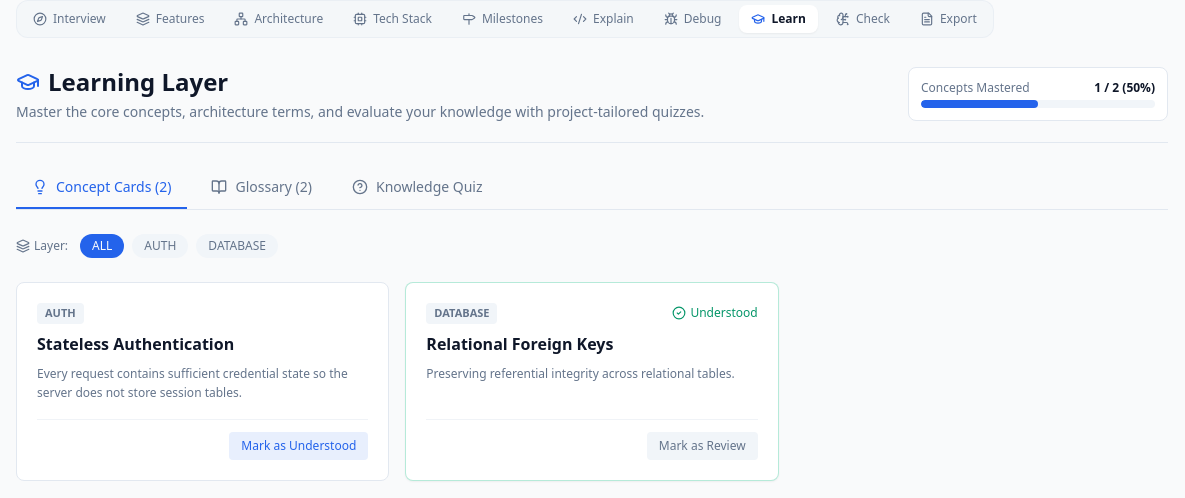
Test: LearnPage › switches to glossary and filters terms
Click the button "Glossary (2)" at coordinates (262, 188), box x1=196 y1=167 x2=328 y2=209
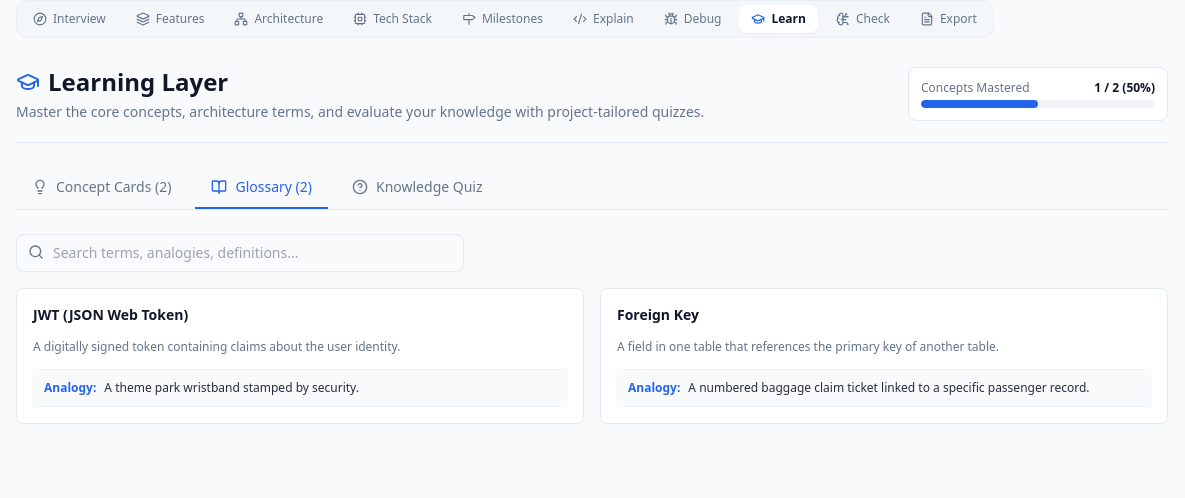
Expected: the heading "Foreign Key" is shown, x1=617 y1=305 x2=699 y2=325
Expected: the heading "JWT (JSON Web Token)" is shown, x1=33 y1=305 x2=188 y2=325
Expected: the text "A theme park wristband stamped by security." is shown, x1=104 y1=380 x2=359 y2=396
Type "wristband" into the field with placeholder "Search terms, analogies, definitions..." at coordinates (240, 253), box x1=16 y1=234 x2=464 y2=272
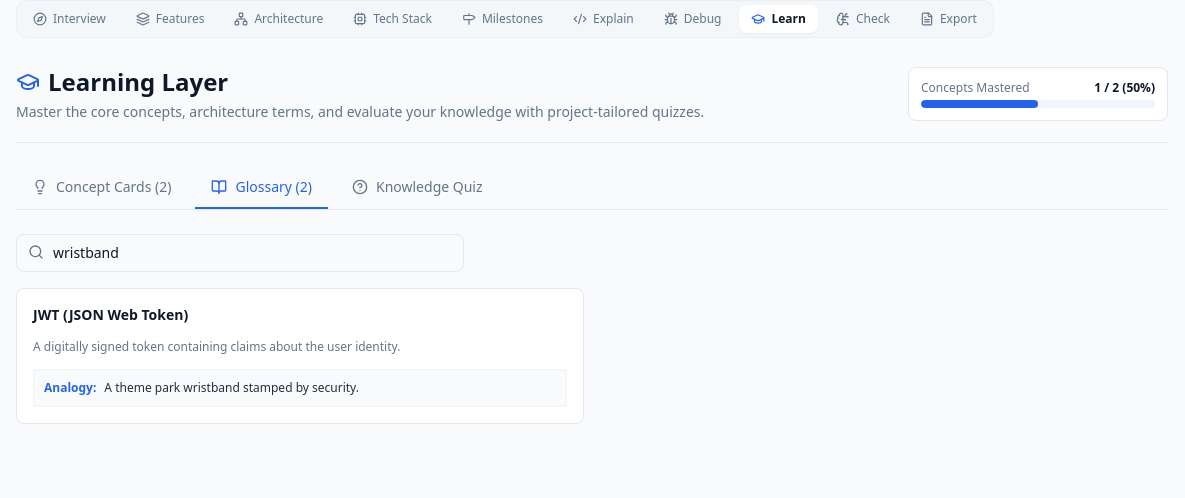
Expected: the heading "JWT (JSON Web Token)" is shown, x1=33 y1=305 x2=188 y2=325
Expected: the heading "Foreign Key" is gone
